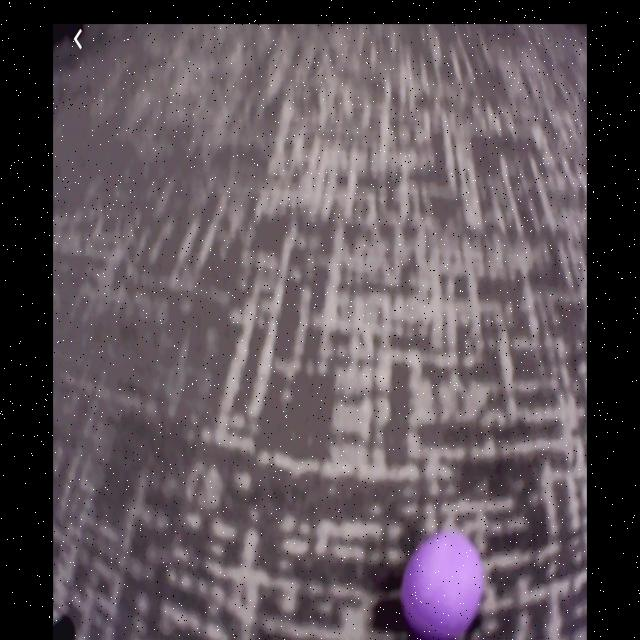ball: (402, 528, 482, 640)
